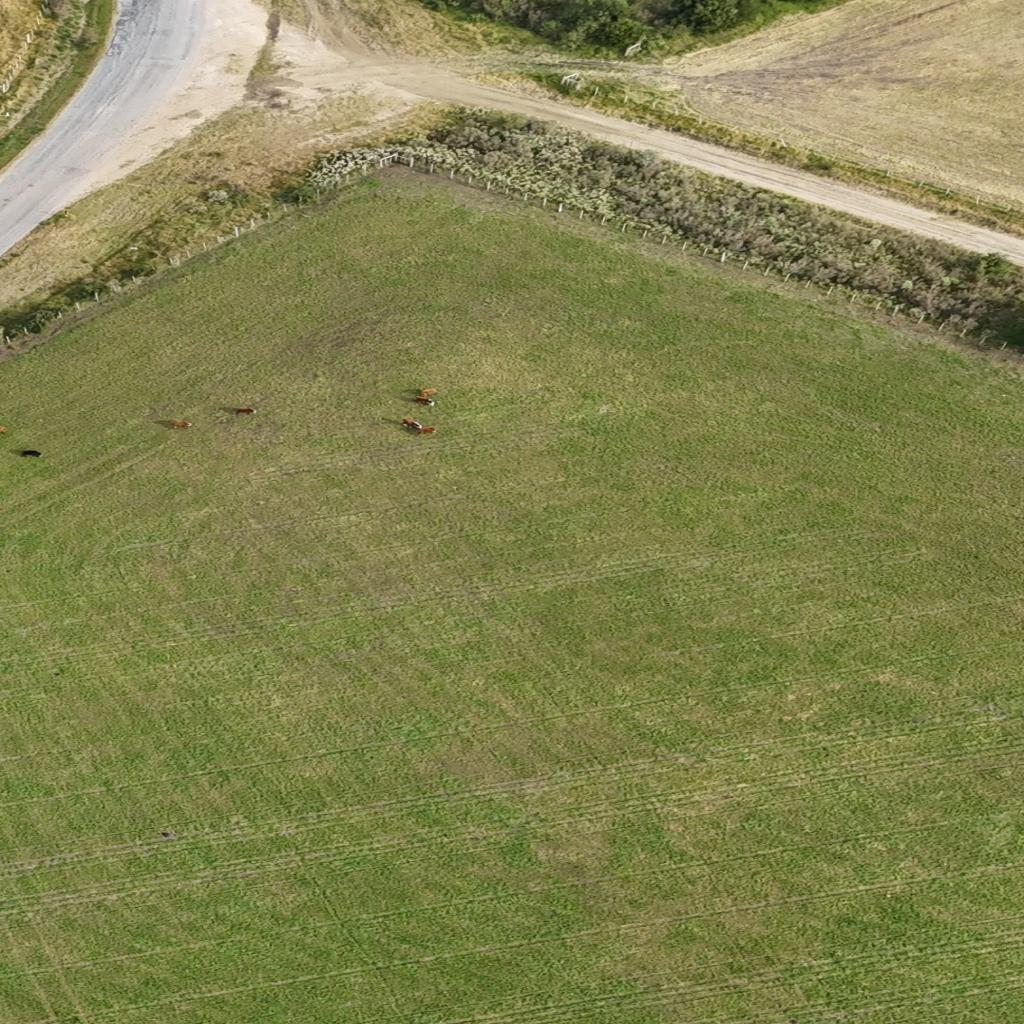cow: (414, 426, 442, 436), (414, 396, 435, 406), (400, 420, 424, 428), (234, 407, 256, 415), (172, 420, 192, 428), (20, 450, 42, 457), (418, 389, 437, 397), (0, 426, 8, 434)
